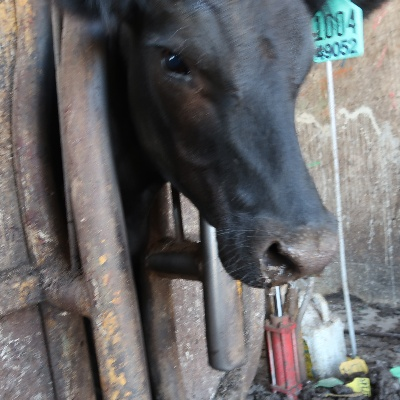fidget_spinner: (250, 207, 355, 293)
